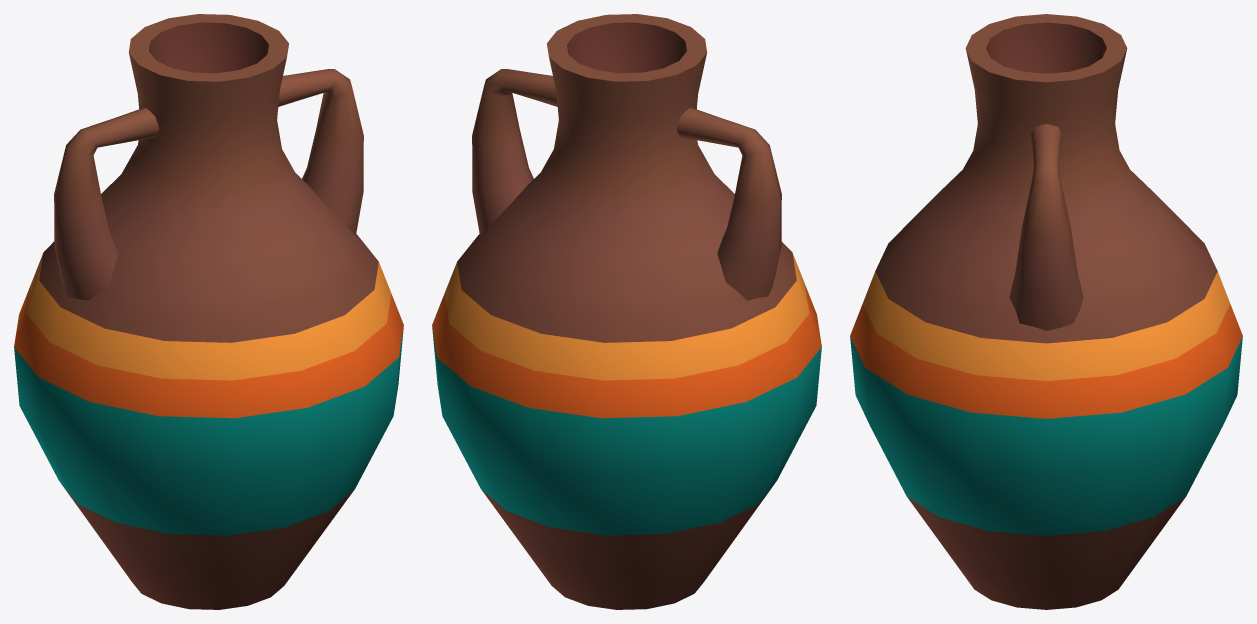
The model's file is Jug_02.glb.
3 renders of one model, left to right at view 1: azimuth 30°, elevation 25°; view 2: azimuth 150°, elevation 25°; view 3: azimuth 270°, elevation 25°, orthographic.
Parts seen in each view (by area): view 1: Jug_02; view 2: Jug_02; view 3: Jug_02.
Part boxes in pixels (x1,y1,x2,y2): Jug_02: [14, 14, 403, 609]; Jug_02: [432, 14, 821, 609]; Jug_02: [850, 14, 1242, 609].
Bounding box in the file's own units: 0.9444 × 1.4 × 0.9444.
Materials: 1 (1 with a texture image).
